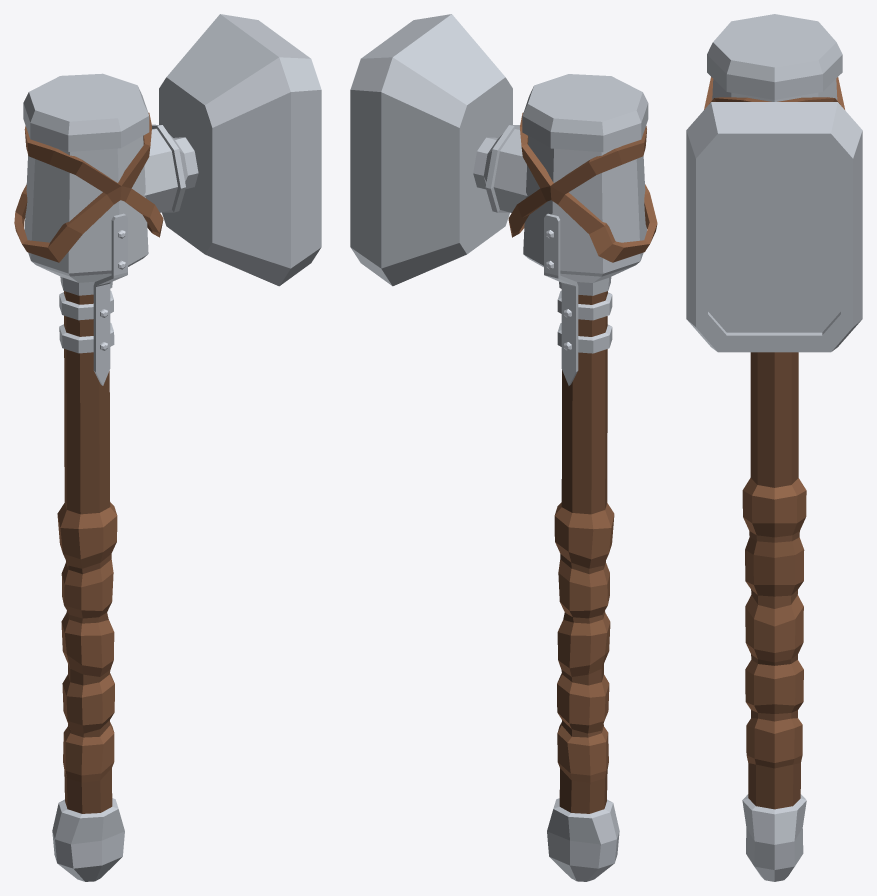
The model's file is Hero_Mace-BcMnimCM.glb.
The picture shows the model from 3 angles, left to right: view 1: azimuth 30°, elevation 25°; view 2: azimuth 150°, elevation 25°; view 3: azimuth 270°, elevation 25°; orthographic projection. The views are drawn at different scales.
Parts seen in each view (by area): view 1: Hero_Mace; view 2: Hero_Mace; view 3: Hero_Mace.
Boxes of the visible parts, left/top/right/bottom form: Hero_Mace: left=14, top=14, right=321, bottom=881; Hero_Mace: left=350, top=14, right=657, bottom=881; Hero_Mace: left=686, top=14, right=862, bottom=881.
Size of the model in its own units: 0.5575 by 1.62 by 0.3021.
